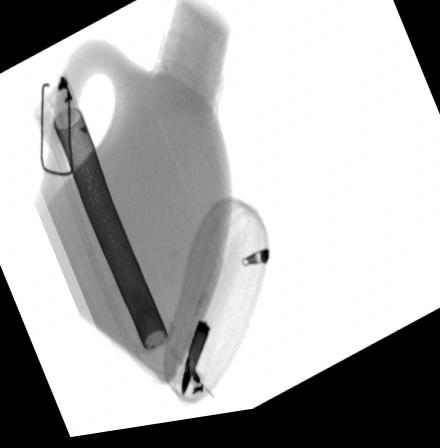Bullet: (180, 323, 211, 404)
